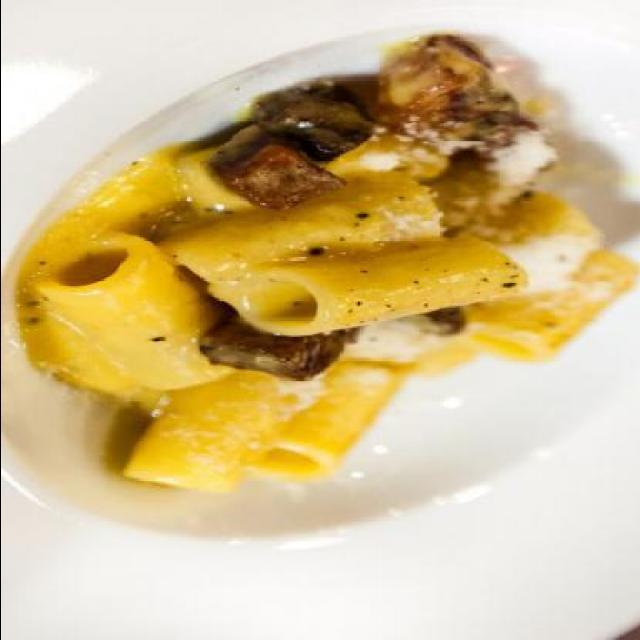Pasta with carbonara sauce: (23, 54, 626, 543)
